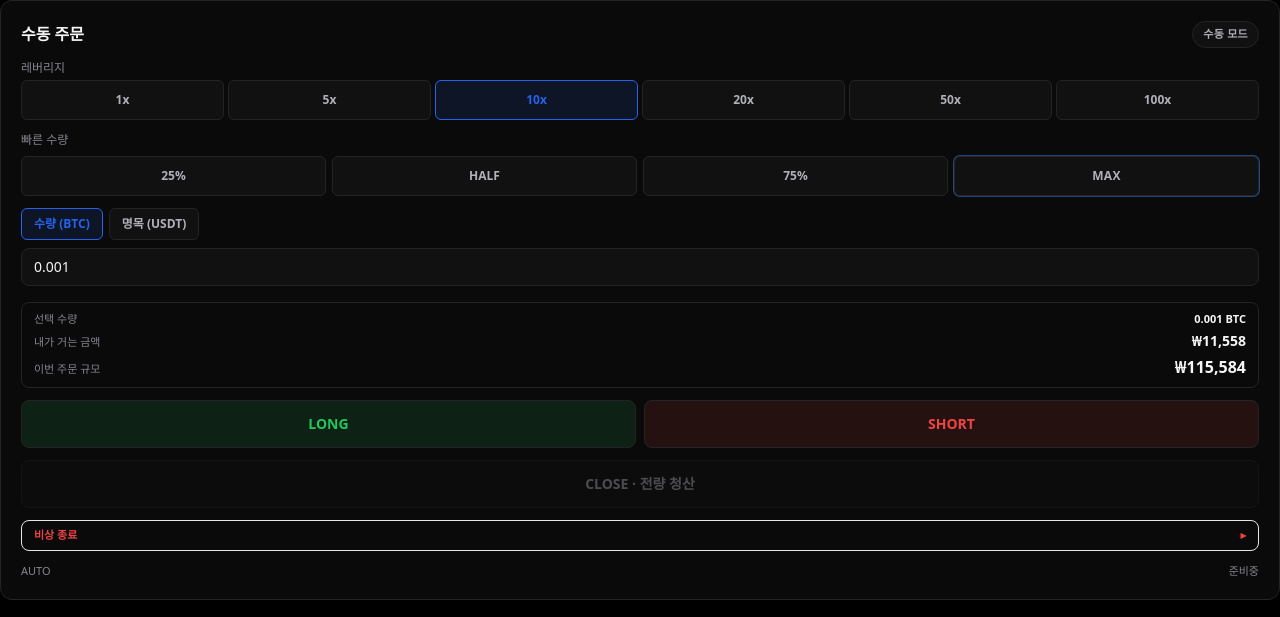
it: quick position size › resolves a preset per side rather than reusing one side's quantity for both
Click the button with test id "preset-MAX": (1106, 176) left=954, top=156, right=1259, bottom=196
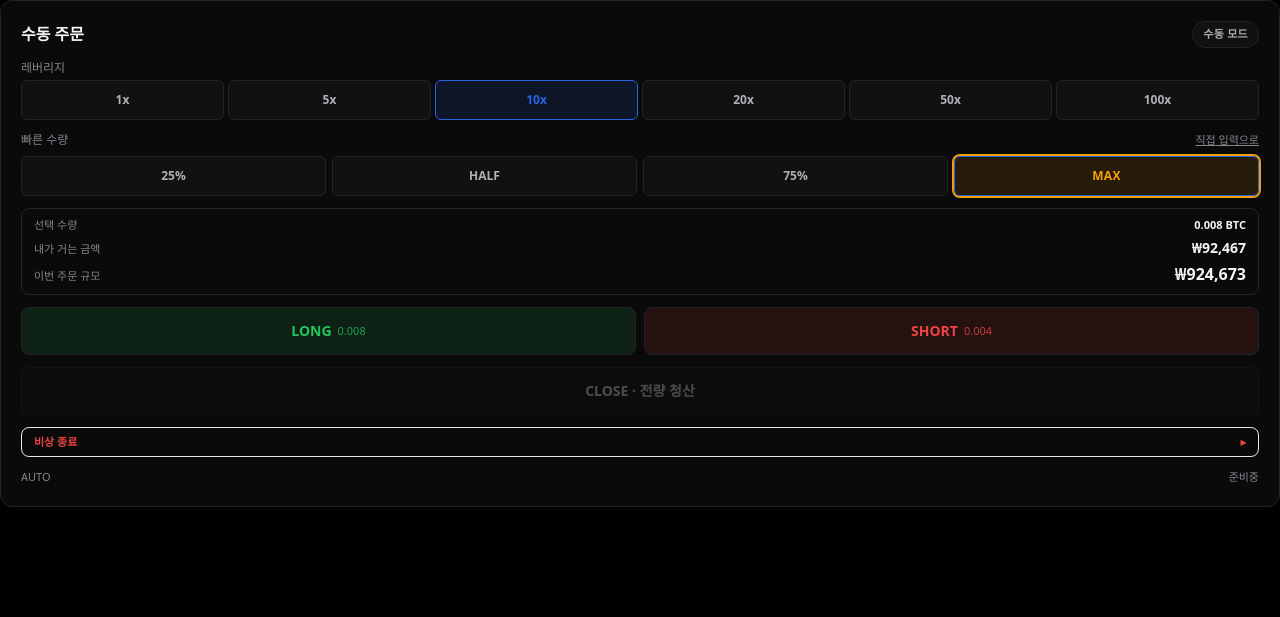
Expected: the button with test id "long-button" shows "0.008", left=21, top=306, right=636, bottom=354
Expected: the button with test id "short-button" shows "0.004", left=644, top=306, right=1259, bottom=354
